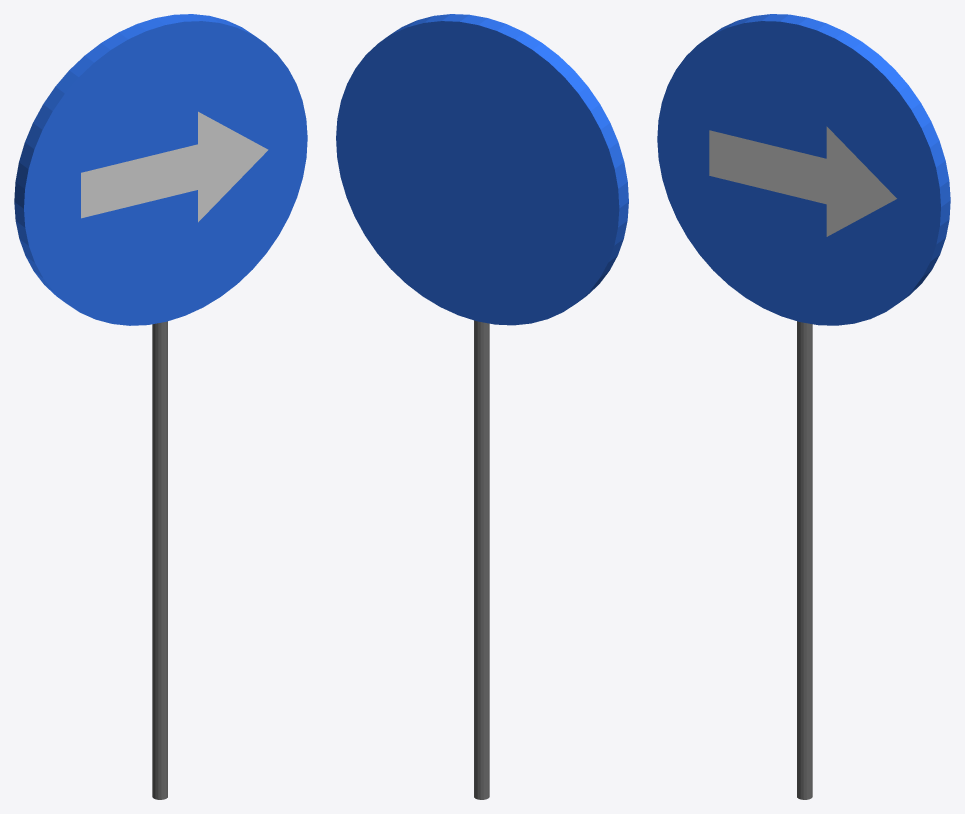
Rendered from signs circle blue white arrow right.fbx.
The picture shows the model from 3 angles, left to right: view 1: azimuth 30°, elevation 25°; view 2: azimuth 150°, elevation 25°; view 3: azimuth 330°, elevation 25°; orthographic projection.
Parts seen in each view (by area): view 1: Cube.016; view 2: Cube.016; view 3: Cube.016.
Boxes of the visible parts, left/top/right/bottom form: Cube.016: left=14, top=14, right=307, bottom=799; Cube.016: left=336, top=14, right=628, bottom=799; Cube.016: left=657, top=14, right=950, bottom=799.
Size of the model in its own units: 172 by 12.63 by 450.
